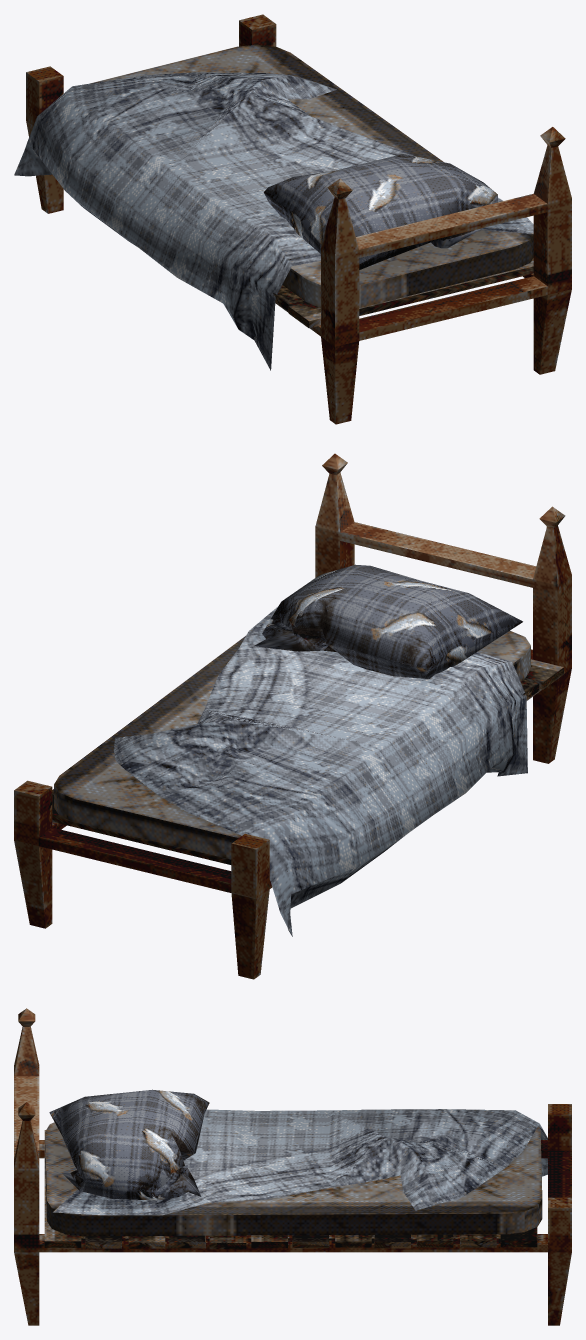
Rendered from bed.fbx.
3 renders of one model, top to bottom at view 1: azimuth 30°, elevation 25°; view 2: azimuth 150°, elevation 25°; view 3: azimuth 270°, elevation 25°, orthographic. The views are drawn at different scales.
Visible parts, largest first — view 1: plaid_low, bedbody_low, matress_low, pillow_low, docks_low; view 2: plaid_low, bedbody_low, pillow_low, matress_low, docks_low; view 3: plaid_low, matress_low, bedbody_low, pillow_low, docks_low.
Part boxes in pixels (x1=…): plaid_low: x1=14, y1=72, x2=533, y2=370; bedbody_low: x1=26, y1=14, x2=571, y2=424; matress_low: x1=90, y1=44, x2=533, y2=307; pillow_low: x1=263, y1=154, x2=497, y2=269; docks_low: x1=273, y1=258, x2=533, y2=328; plaid_low: x1=113, y1=606, x2=527, y2=936; bedbody_low: x1=14, y1=453, x2=571, y2=979; pillow_low: x1=254, y1=564, x2=522, y2=678; matress_low: x1=54, y1=631, x2=530, y2=859; docks_low: x1=52, y1=659, x2=563, y2=871; plaid_low: x1=53, y1=1109, x2=547, y2=1215; matress_low: x1=45, y1=1122, x2=542, y2=1236; bedbody_low: x1=14, y1=1008, x2=571, y2=1325; pillow_low: x1=49, y1=1089, x2=209, y2=1200; docks_low: x1=44, y1=1130, x2=537, y2=1249.
Bounding box in the file's own units: 158 × 133 × 302.
